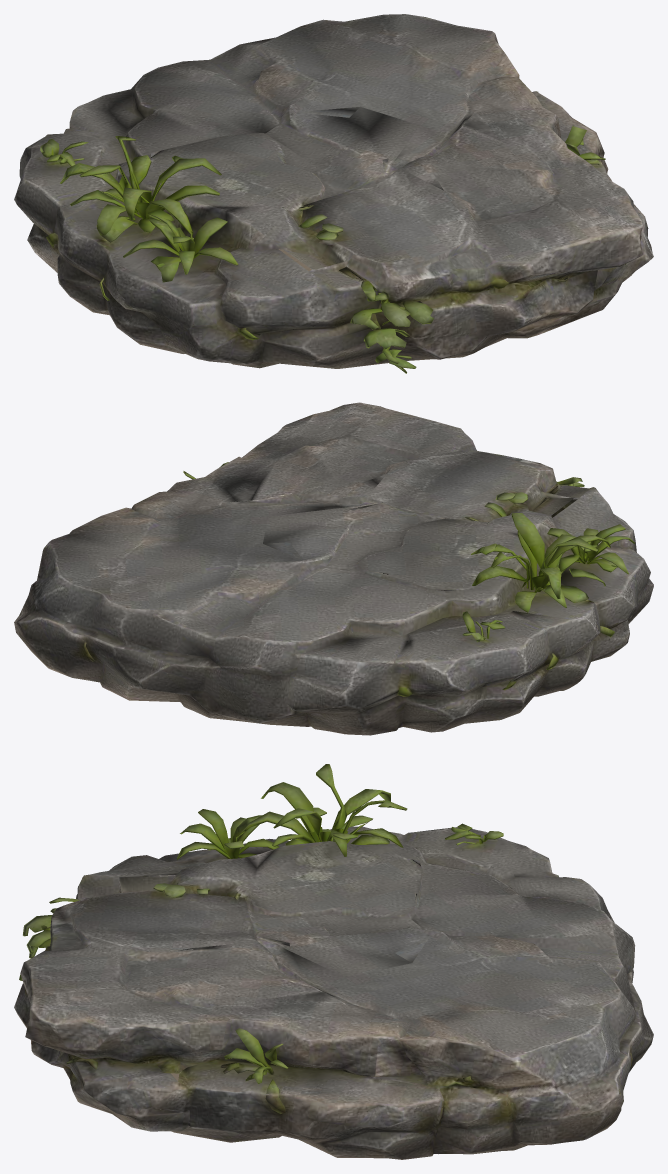
Rendered from prop_da_phien.589ae97cf2.glb.
The picture shows the model from 3 angles, top to bottom: view 1: azimuth 30°, elevation 25°; view 2: azimuth 150°, elevation 25°; view 3: azimuth 270°, elevation 25°; orthographic projection. The views are drawn at different scales.
Parts seen in each view (by area): view 1: prop_da_phien; view 2: prop_da_phien; view 3: prop_da_phien.
Part boxes in pixels (x1,y1,x2,y2): prop_da_phien: (14, 14, 653, 373); prop_da_phien: (14, 402, 653, 735); prop_da_phien: (14, 764, 653, 1159).
Size of what is drawn, in the model's own units: 2.89 by 0.8278 by 3.
Materials: 1 (1 with a texture image).
